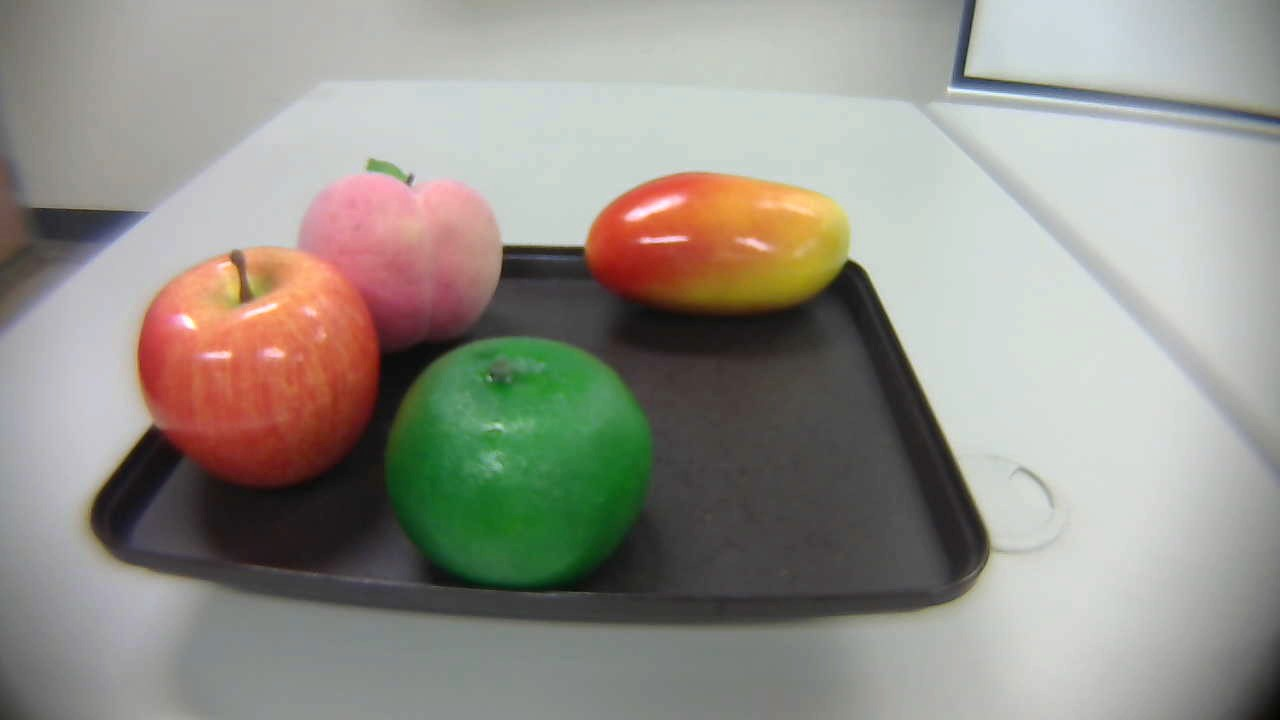green orange: (378, 336, 652, 588)
peach: (285, 149, 512, 371)
red apple: (143, 249, 377, 494)
red mango: (588, 173, 862, 318)
